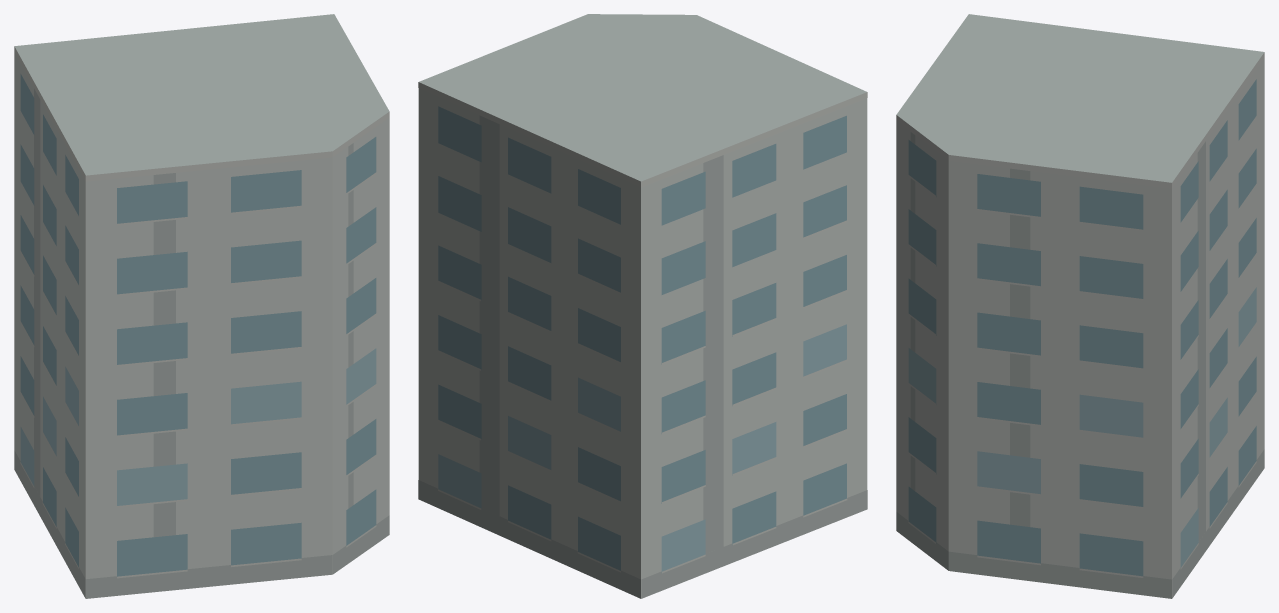
File: survey-upis-32879287.glb
3 renders of one model, left to right at view 1: azimuth 30°, elevation 25°; view 2: azimuth 150°, elevation 25°; view 3: azimuth 270°, elevation 25°, orthographic.
Parts seen in each view (by area): view 1: survey-upis-32879287.tmp; view 2: survey-upis-32879287.tmp; view 3: survey-upis-32879287.tmp.
Part boxes in pixels (x1,y1,x2,y2): survey-upis-32879287.tmp: (14, 14, 389, 598); survey-upis-32879287.tmp: (418, 14, 867, 598); survey-upis-32879287.tmp: (896, 14, 1264, 598).
Size of the model in its own units: 14.63 by 16.8 by 13.49.
